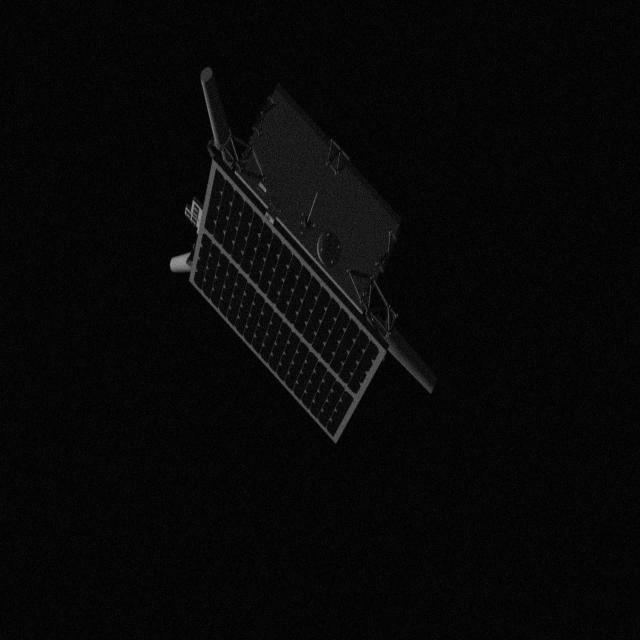satellite: (158, 62, 448, 456)
